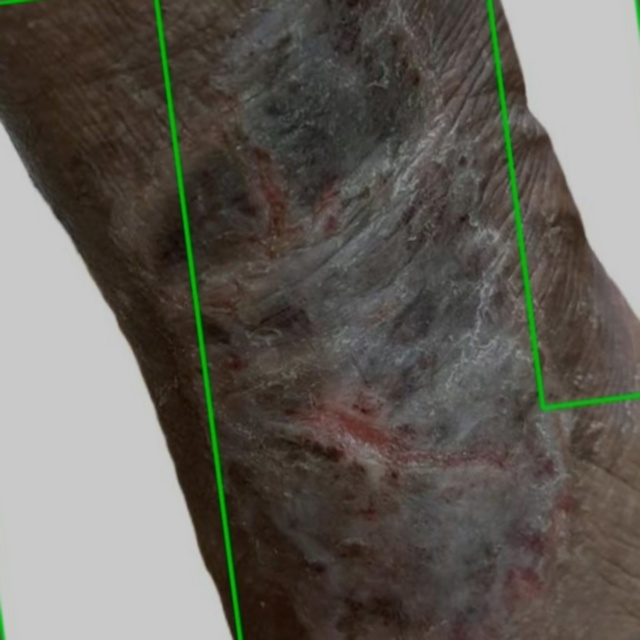Eczema: (0, 0, 240, 639), (489, 0, 639, 407)
